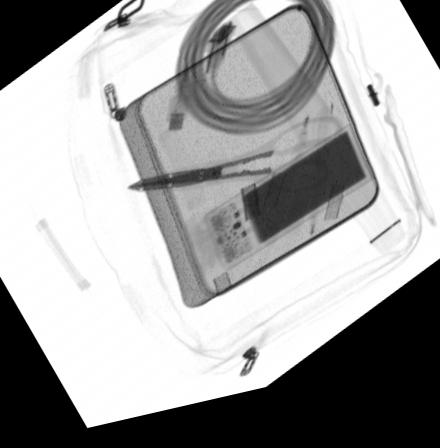Powerbank: (204, 134, 375, 283)
Scissors: (122, 129, 345, 204)
